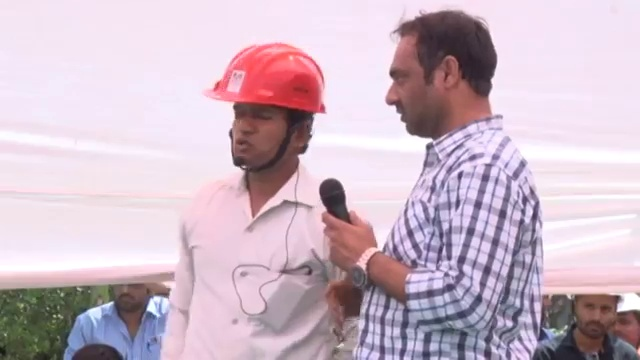helmet: (210, 38, 325, 114)
helmet_off: (383, 8, 496, 122), (573, 292, 620, 345), (103, 284, 154, 318), (612, 298, 640, 341)
helmet_on: (212, 36, 324, 191)
person: (351, 0, 556, 348), (149, 36, 375, 341), (65, 281, 171, 359), (535, 293, 631, 360)
